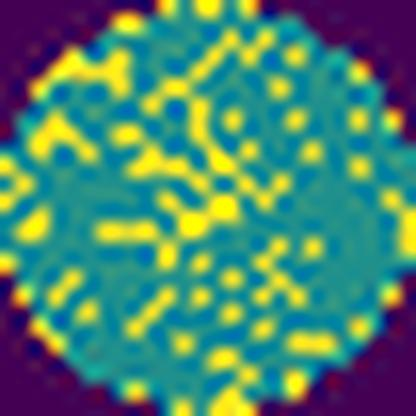Center: (99, 127, 248, 278)
